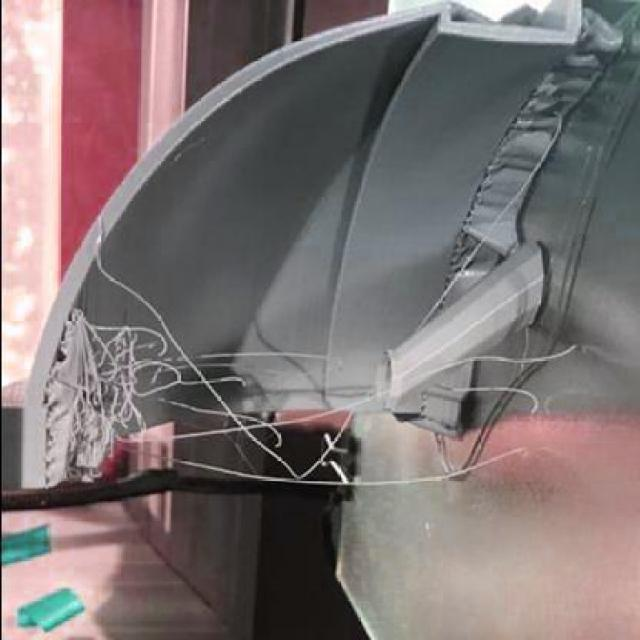spaghetti: (64, 311, 578, 488)
